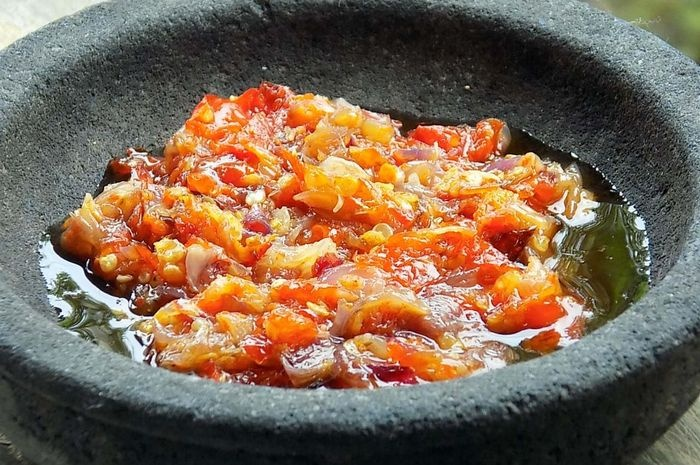sambal: (56, 81, 599, 396)
